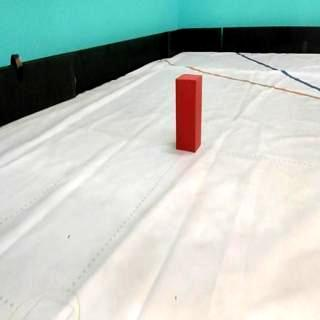redbox: (174, 72, 202, 152)
